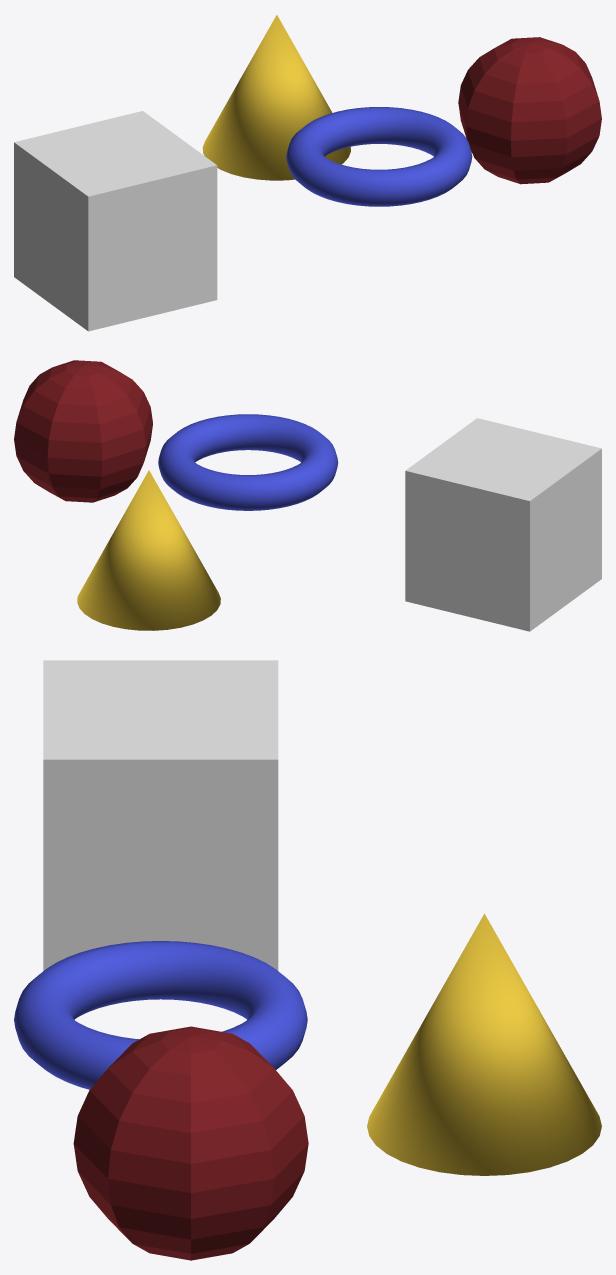
The picture shows the model from 3 angles, top to bottom: view 1: azimuth 30°, elevation 25°; view 2: azimuth 150°, elevation 25°; view 3: azimuth 270°, elevation 25°; orthographic projection. The views are drawn at different scales.
Visible parts, largest first — view 1: Cube, Sphere, Torus, Cone; view 2: Cube, Sphere, Cone, Torus; view 3: Cube, Sphere, Cone, Torus.
Part boxes in pixels (x1,y1,x2,y2): Cube: (14,111,217,331); Sphere: (458,37,601,184); Torus: (286,107,472,206); Cone: (202,15,350,180); Cube: (405,418,601,631); Sphere: (14,360,152,502); Cone: (77,470,220,630); Torus: (158,414,338,510); Cube: (43,660,278,970); Sphere: (73,1026,308,1260); Cone: (367,913,601,1175); Torus: (14,941,307,1089).
Bounding box in the file's own units: 858 × 200 × 500.
